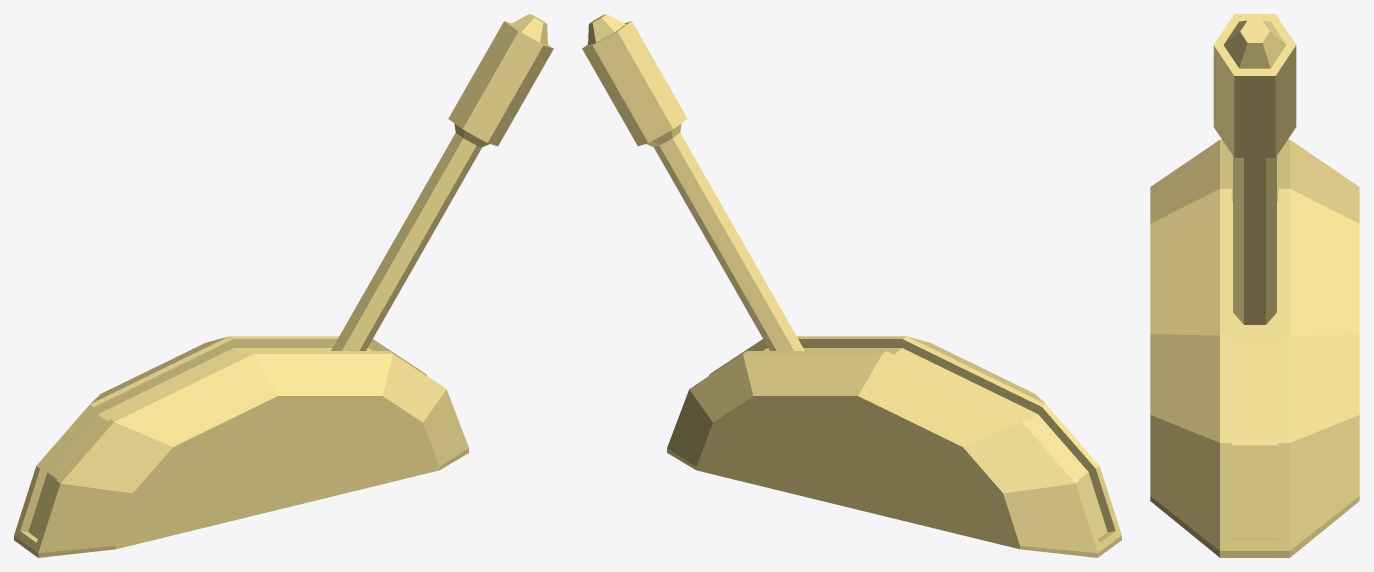
The model's file is Lever.002.fbx.
3 renders of one model, left to right at view 1: azimuth 30°, elevation 25°; view 2: azimuth 150°, elevation 25°; view 3: azimuth 270°, elevation 25°, orthographic. The views are drawn at different scales.
Parts seen in each view (by area): view 1: Lever.002; view 2: Lever.002; view 3: Lever.002.
Part boxes in pixels (x1,y1,x2,y2): Lever.002: (14, 14, 553, 557); Lever.002: (582, 14, 1121, 557); Lever.002: (1150, 14, 1359, 557).
Size of the model in its own units: 201 by 151 by 48.62.
